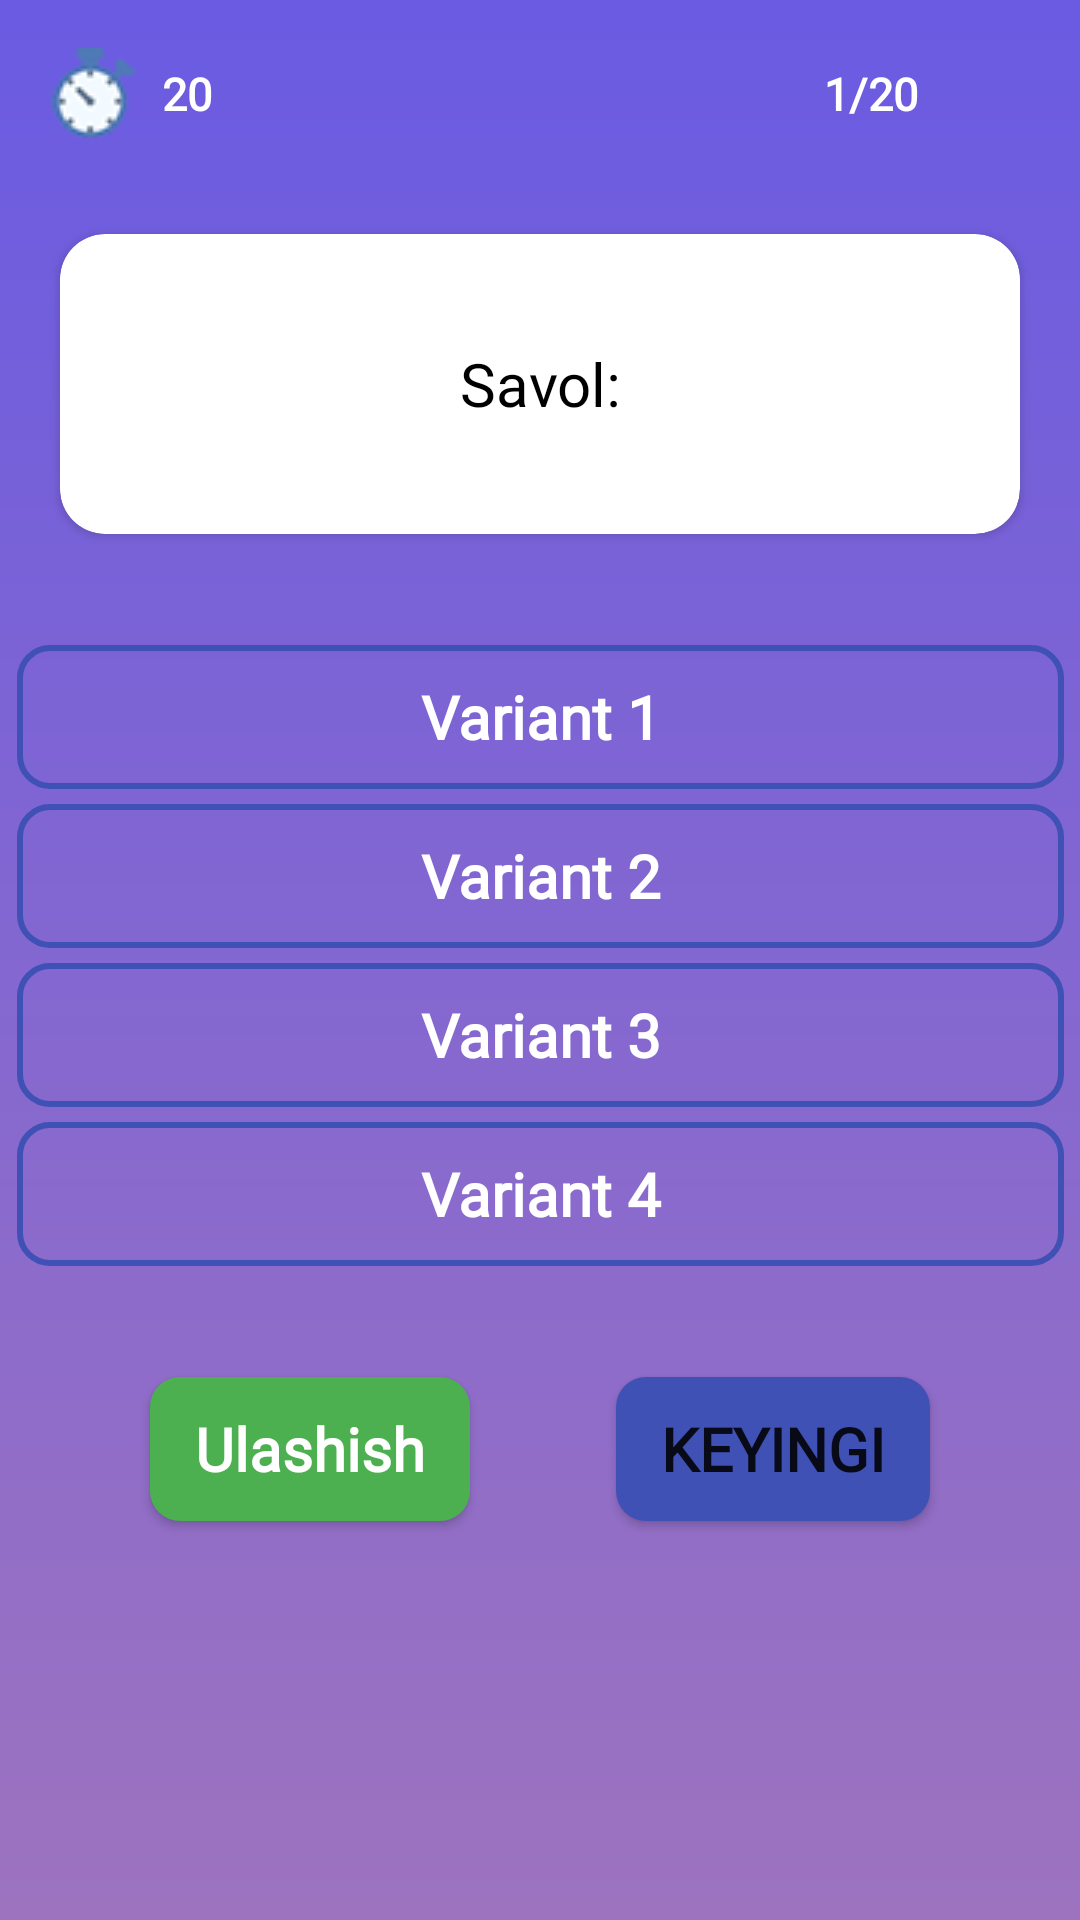

Screen size 1080 x 1920. Icon name, then its center in pixels as (x=x, y=y):
stopwatch: (x=93, y=93)
